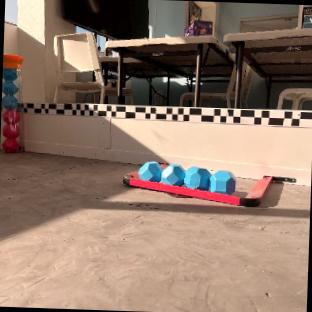Parking-R: (124, 171, 295, 206)
V5_BLUE: (140, 162, 162, 181)
V5_RED: (3, 110, 18, 151)
